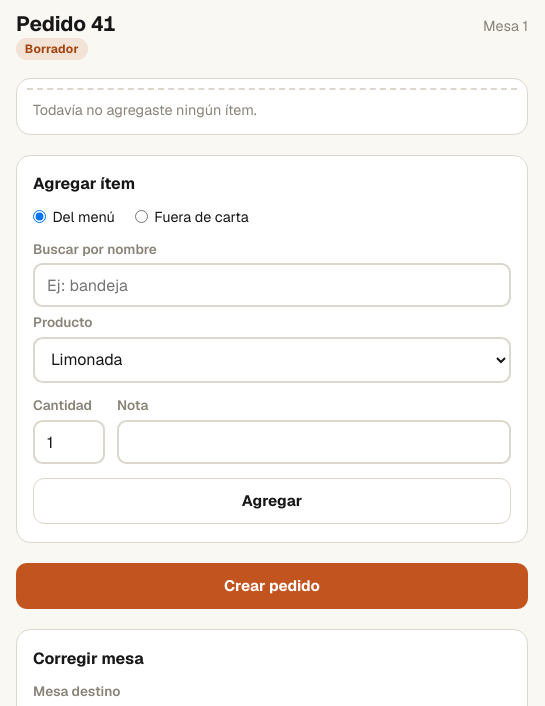
it: OrderBuilder (T66, RF-3/4/5/6/7) › shows the 409 error when adding an item to a charged order
Expected: the dropdown labelled "Producto" is shown, top-left (33, 336), bottom-right (511, 383)
Click the button "Agregar": (272,501) top-left (33, 478), bottom-right (511, 524)
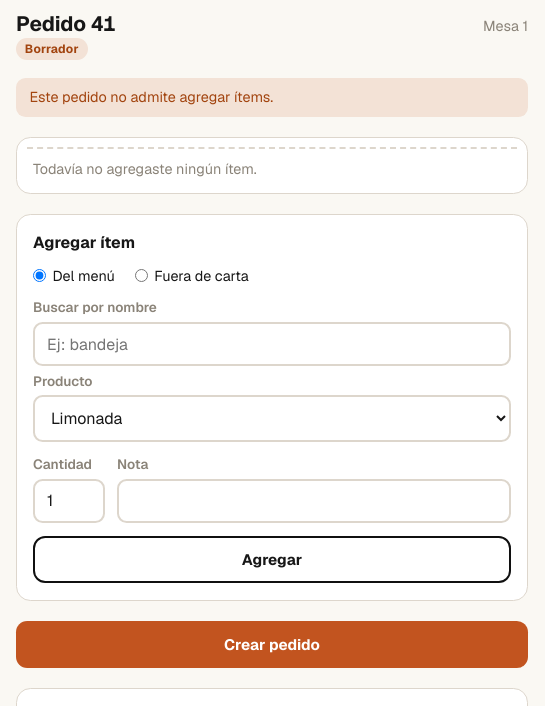
Expected: the text "Este pedido no admite agregar ítems." is shown, top-left (16, 78), bottom-right (528, 117)
